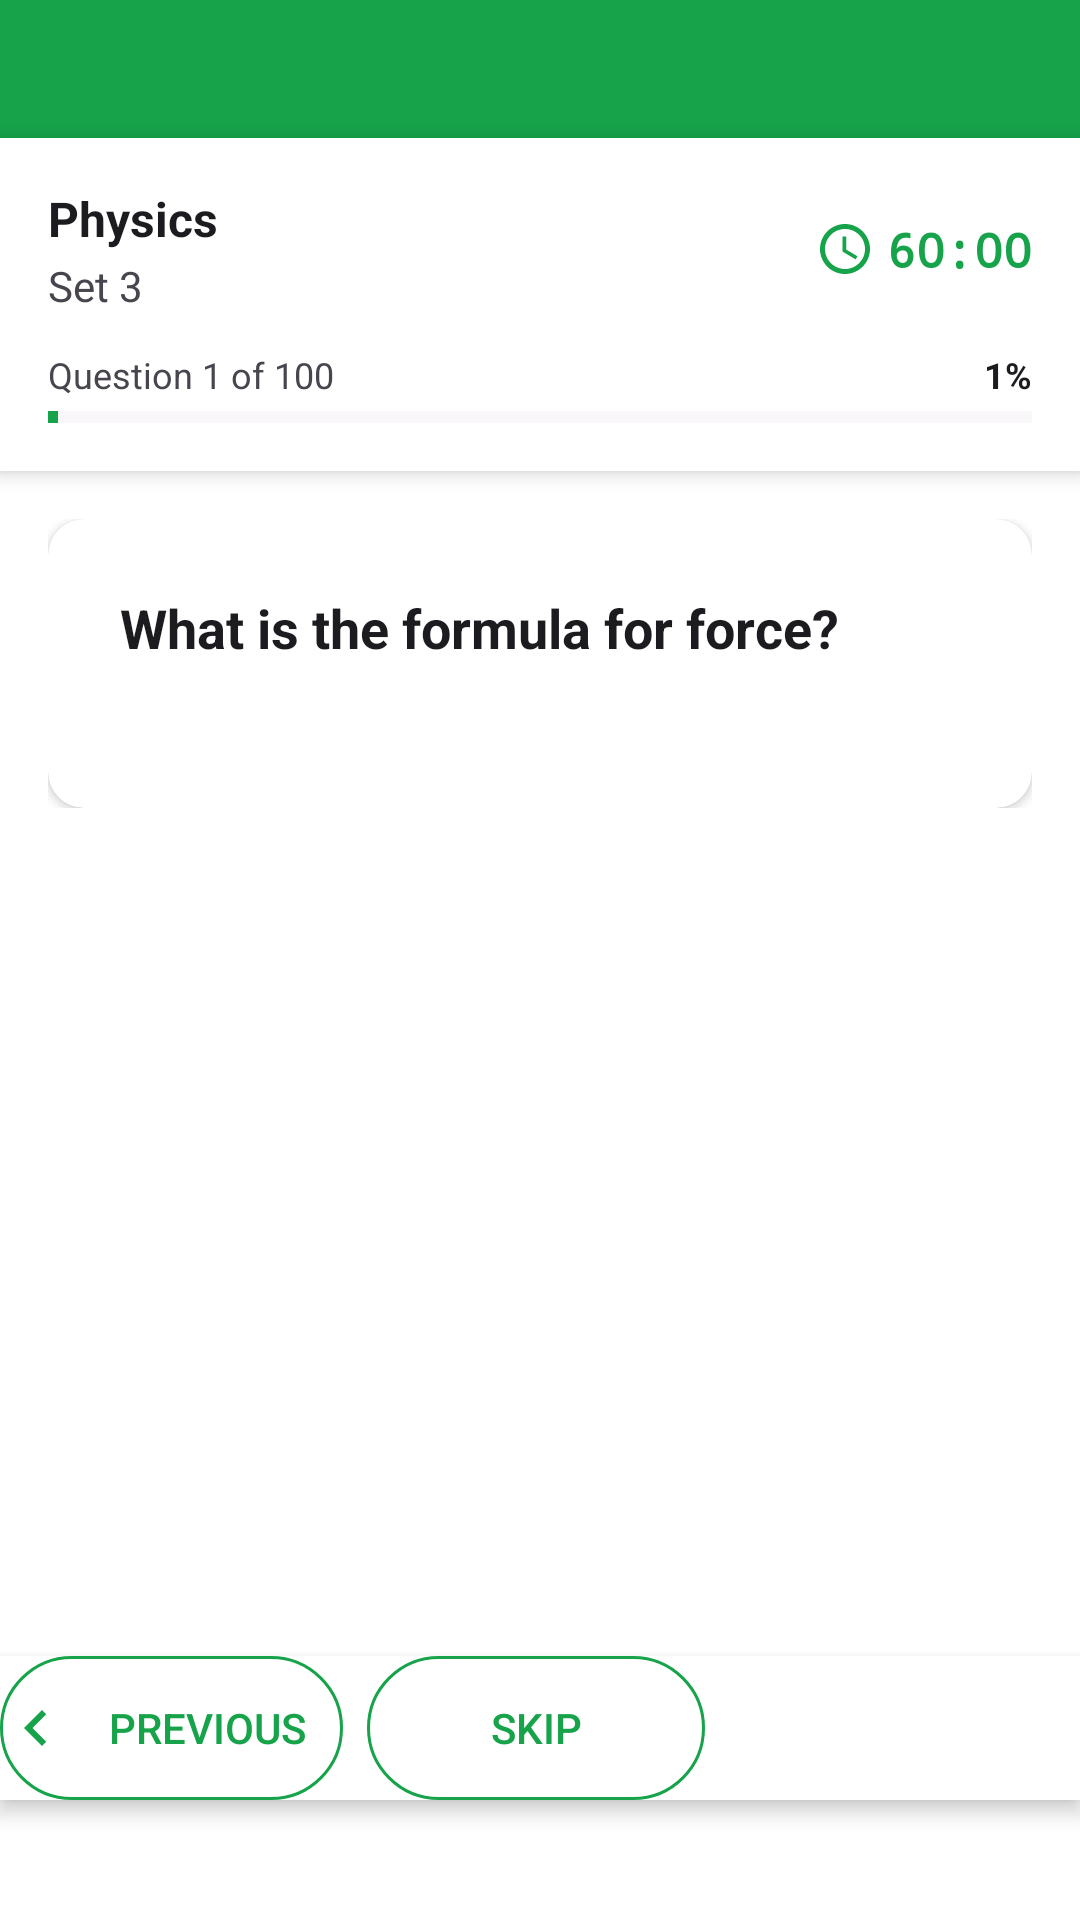

Icon bounding boxes for this 1080 x 1920 phone screenshot, format (x1, y1, x2, y2):
clock: (820, 224, 870, 274)
